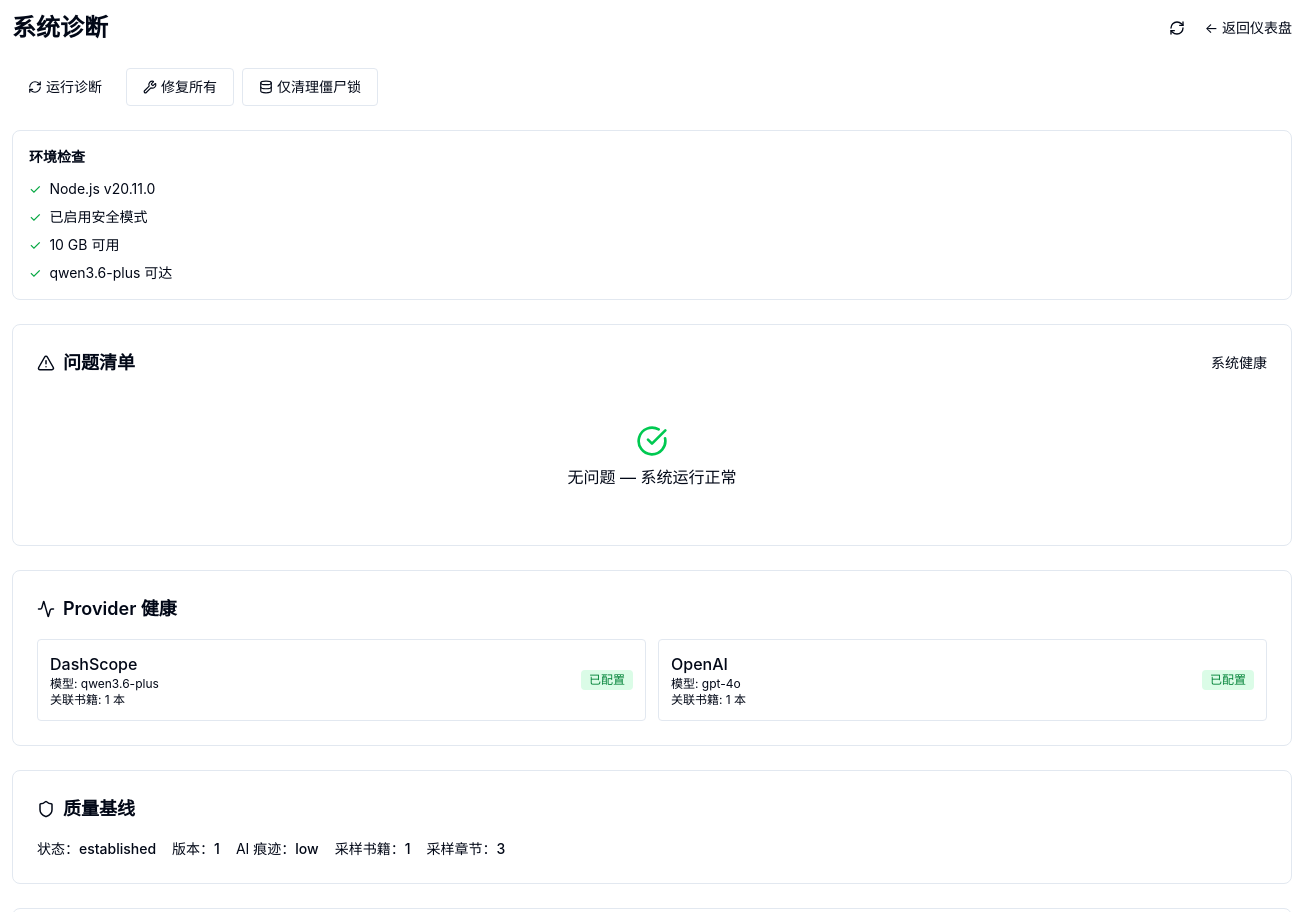
Test case: DoctorView Page › refreshes diagnosis on demand
Check: the heading "系统诊断" is shown, box [12,12,108,44]
Check: the text "过期" is not shown
// Click refresh
Click the button titled "刷新诊断". click: (1177, 28)
box: [1161,12,1193,44]
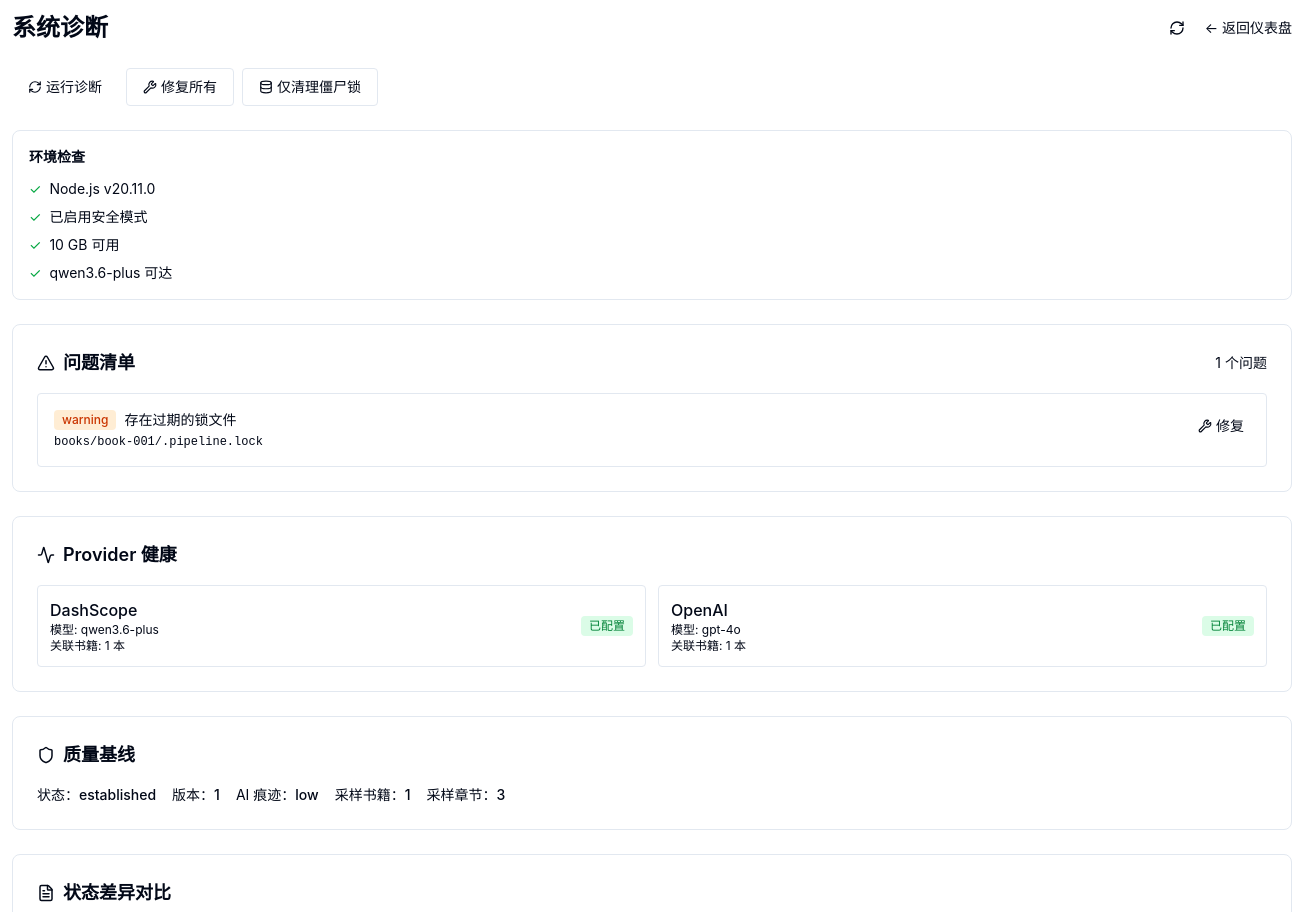
Check: the text "存在过期的锁文件" is shown, box [124,410,236,430]
